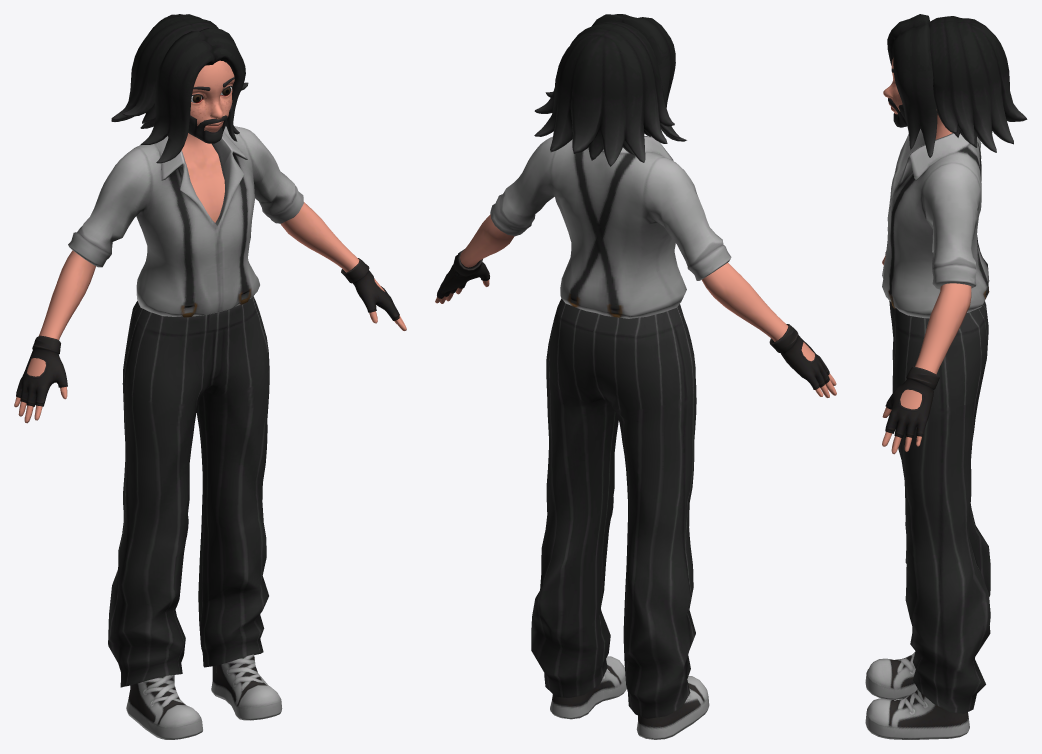
The model's file is StaffJanwick_Mesh.obj.
3 views of the same model, side by side, from view 1: azimuth 30°, elevation 25°; view 2: azimuth 150°, elevation 25°; view 3: azimuth 270°, elevation 25° (orthographic). The views are drawn at different scales.
Parts seen in each view (by area): view 1: StaffJanwick_Mesh_0; view 2: StaffJanwick_Mesh_0; view 3: StaffJanwick_Mesh_0.
Part boxes in pixels (bbox=[...]): StaffJanwick_Mesh_0: bbox=[14, 14, 406, 739]; StaffJanwick_Mesh_0: bbox=[435, 14, 836, 739]; StaffJanwick_Mesh_0: bbox=[865, 14, 1027, 739].
Size of the model in its own units: 1.06 by 1.8 by 0.3835.
Materials: 1 (1 with a texture image).
